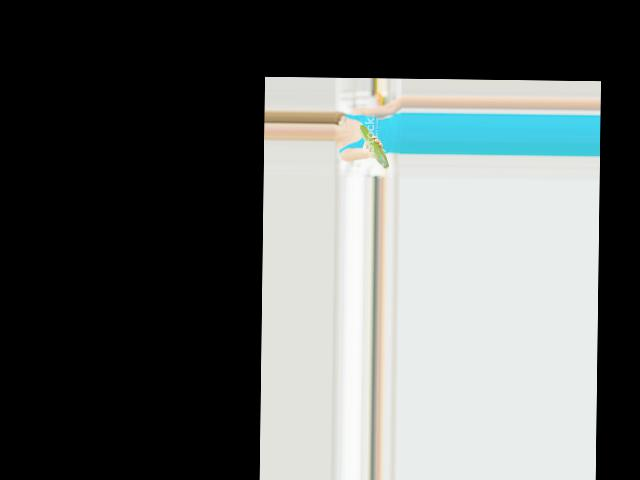cucumber: (358, 124, 390, 168)
